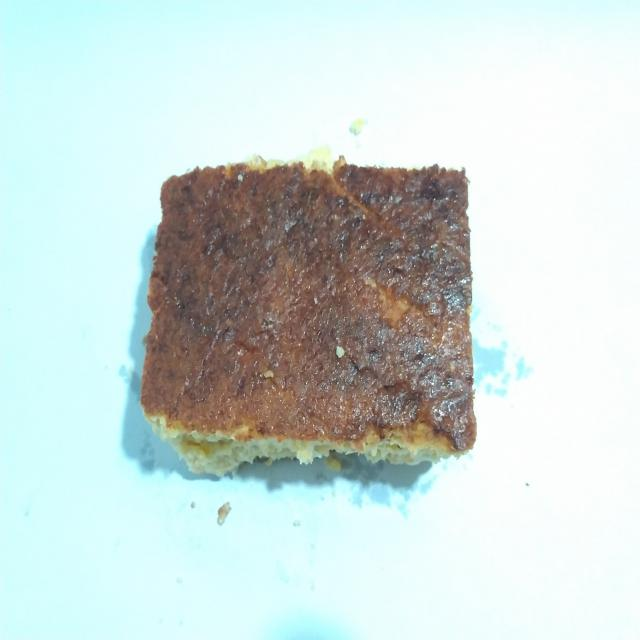Food: (128, 147, 493, 491)
